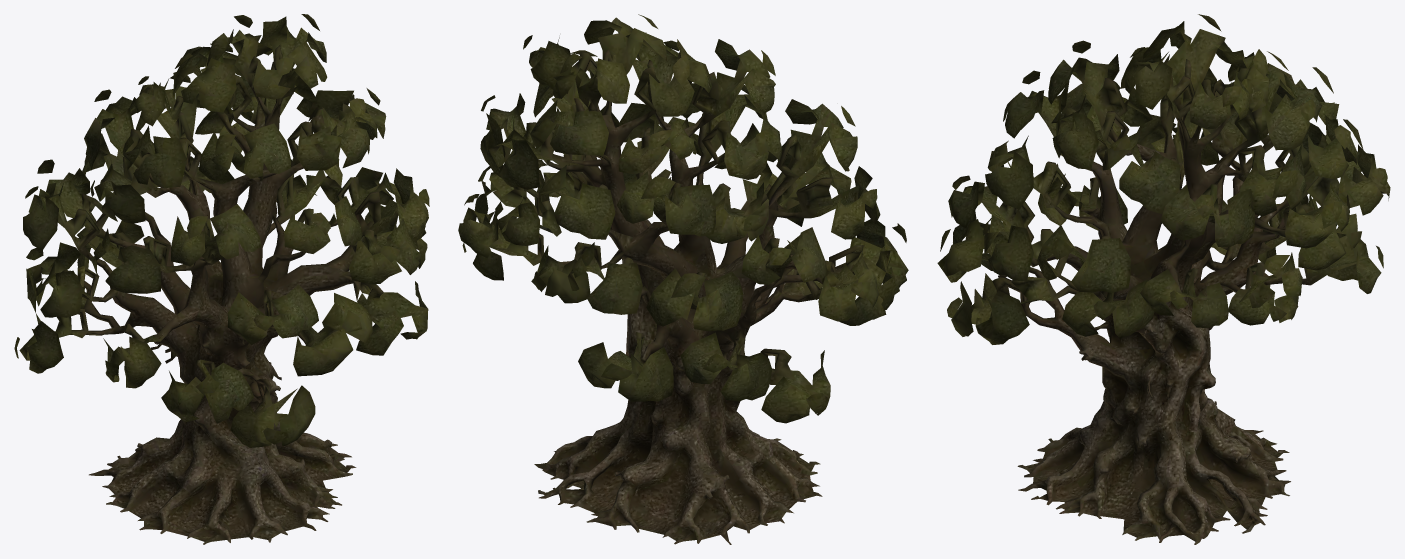
The model's file is oak.glb.
The picture shows the model from 3 angles, left to right: view 1: azimuth 30°, elevation 25°; view 2: azimuth 150°, elevation 25°; view 3: azimuth 270°, elevation 25°; orthographic projection. The views are drawn at different scales.
Visible parts, largest first — view 1: tripo_node_81a4998c-f3ef-4a8f-979e-2e338504b8d8; view 2: tripo_node_81a4998c-f3ef-4a8f-979e-2e338504b8d8; view 3: tripo_node_81a4998c-f3ef-4a8f-979e-2e338504b8d8.
Boxes of the visible parts, x1,y1,x2,y2 form: tripo_node_81a4998c-f3ef-4a8f-979e-2e338504b8d8: (14,14,429,544); tripo_node_81a4998c-f3ef-4a8f-979e-2e338504b8d8: (458,14,908,544); tripo_node_81a4998c-f3ef-4a8f-979e-2e338504b8d8: (937,14,1390,544).
Size of the model in its own units: 0.898 by 0.9995 by 0.8931.
1 material, 1 textured.
